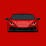car: (8, 12, 40, 30)
